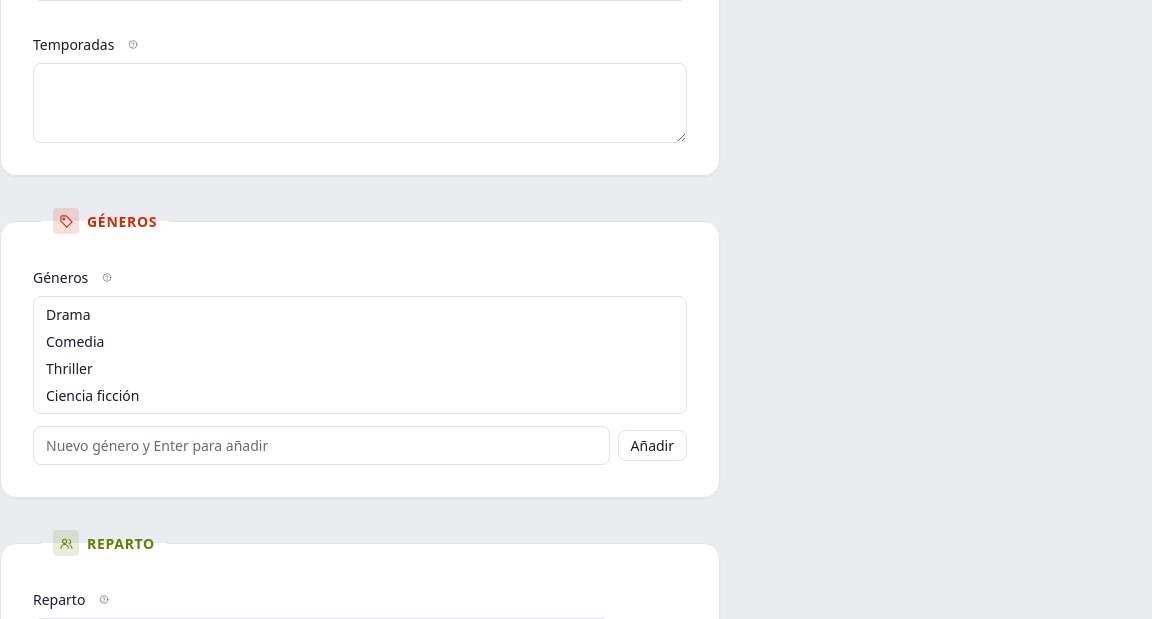
it: SeriesForm › la ayuda de géneros avisa de que la × borra del catálogo
The image size is (1152, 619).
(page scrolled)
Click the button named "ayuda sobre géneros" at (107, 277), box [96,266,118,288]
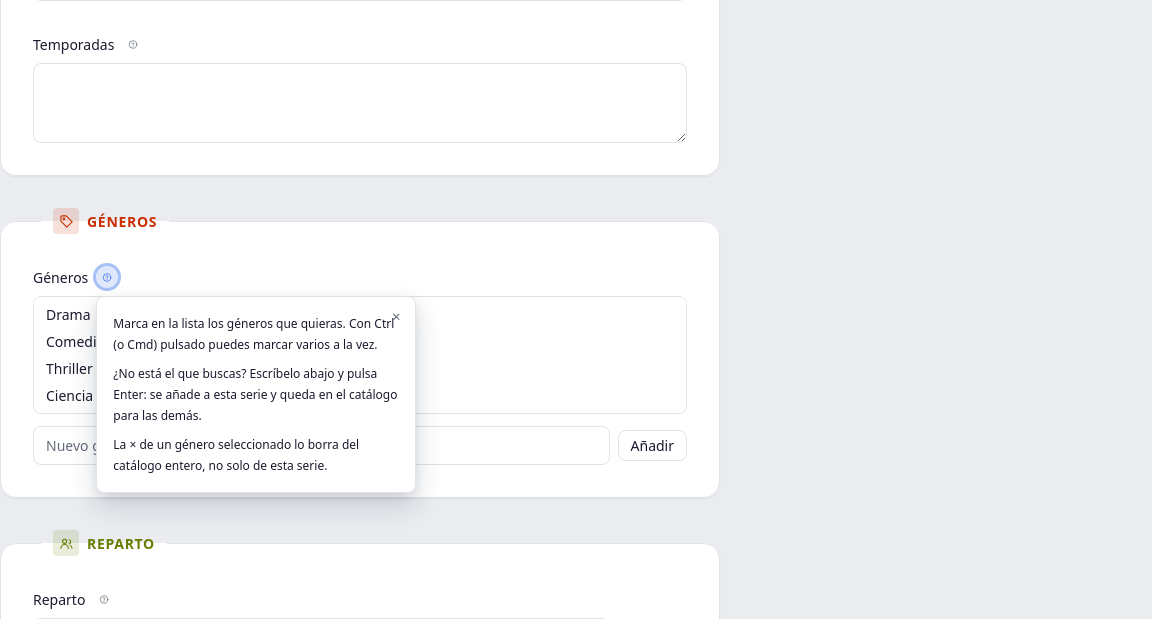
Check: the text "borra del catálogo entero" is shown, box [113,436,359,474]
